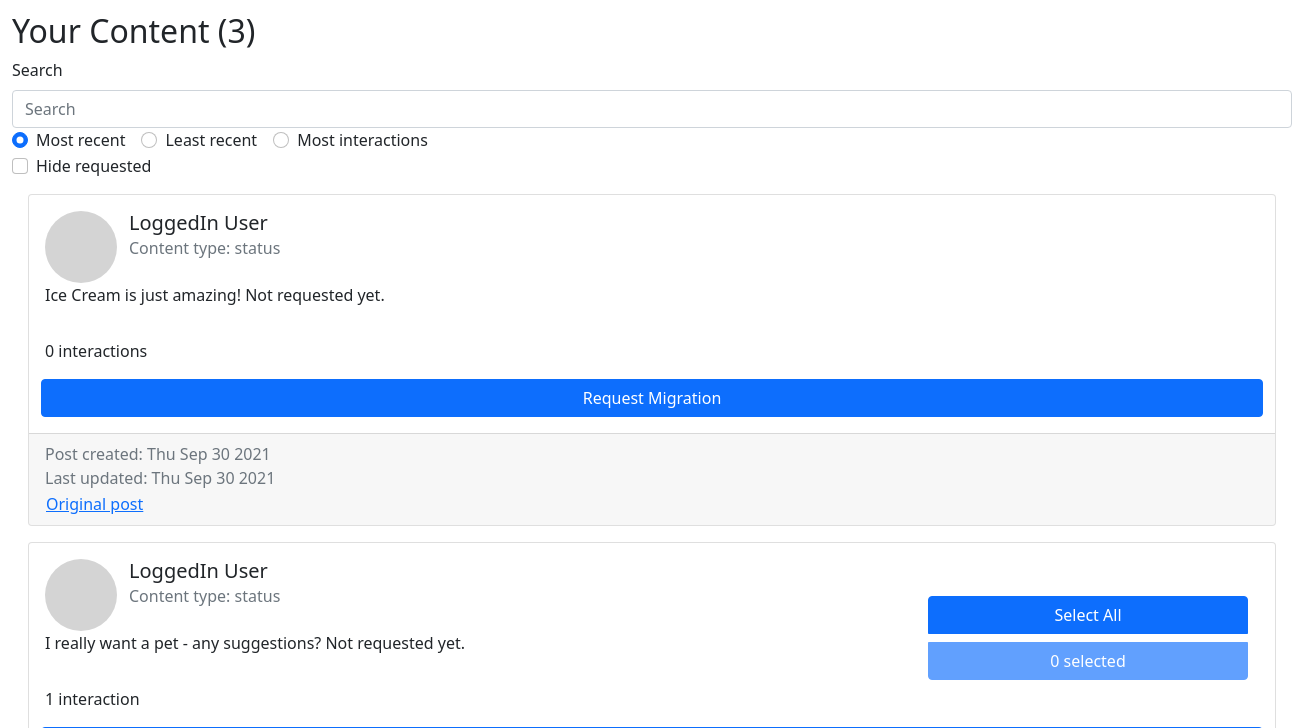
Test: User has multiple posts in FB group › Simulate user clicks the Select All button, but changed their mind, selecting Deselect All
This screenshot has width=1304, height=728.
Click the button "Select All": [1088, 615] box [928,596,1248,634]
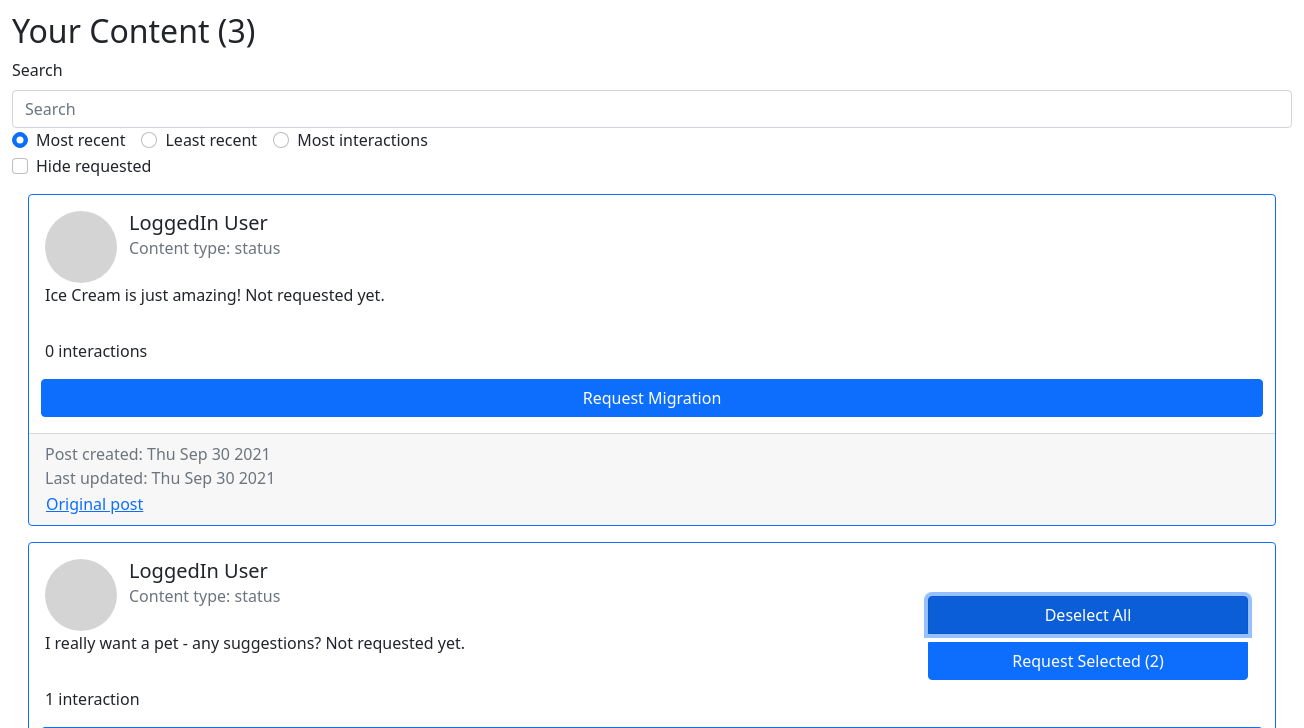
Expected: the button "Deselect All" is shown
Expected: the button "Request Selected (2)" is shown, [928,642,1248,680]
Click the button "Deselect All": [1088, 615] box [928,596,1248,634]
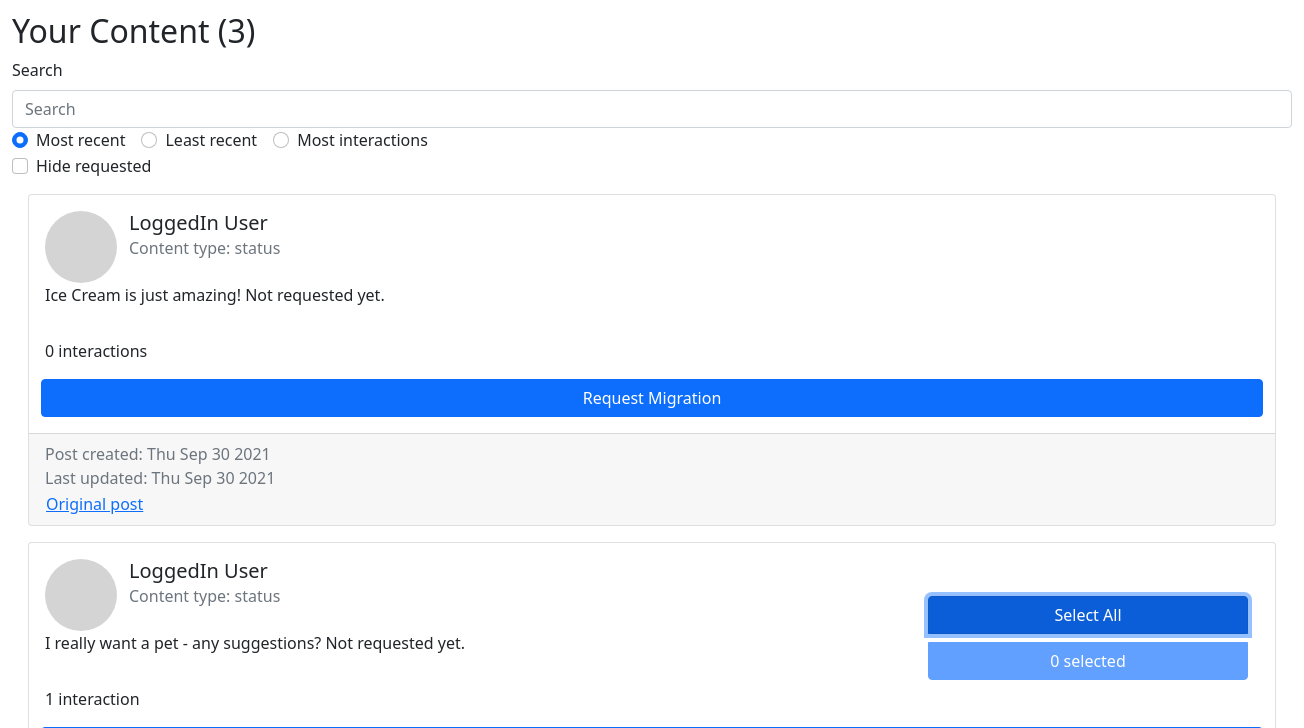
Expected: the button "0 selected" is shown, [928,642,1248,680]
Expected: the button "Deselect All" is gone
